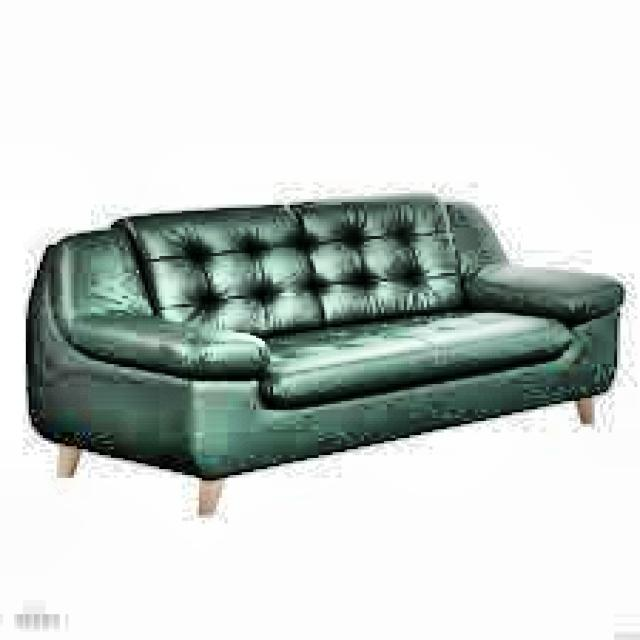sofa: (31, 188, 623, 486)
